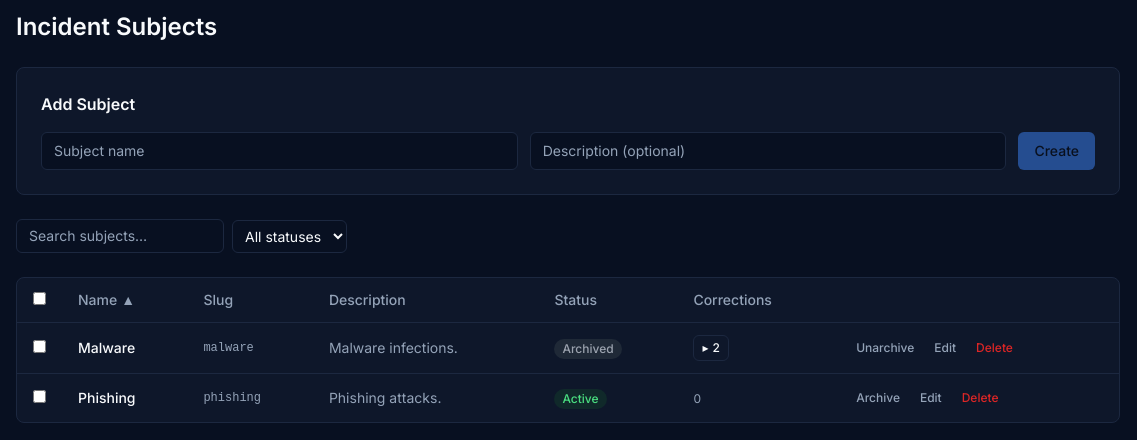
Test: SubjectsAdmin › filters by status
Expected: the text "Phishing" is shown, top-left (62, 374), bottom-right (187, 422)
Select "Archived" in the dropdown named "Status filter" at (290, 236), box top-left (232, 220), bottom-right (347, 252)
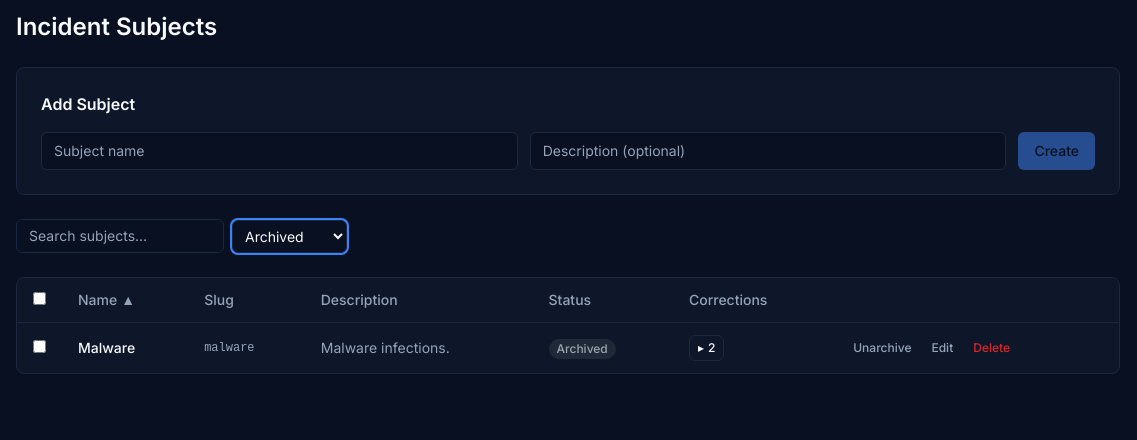
Expected: the text "Malware" is shown, top-left (62, 322), bottom-right (188, 373)
Expected: the text "Phishing" is gone
